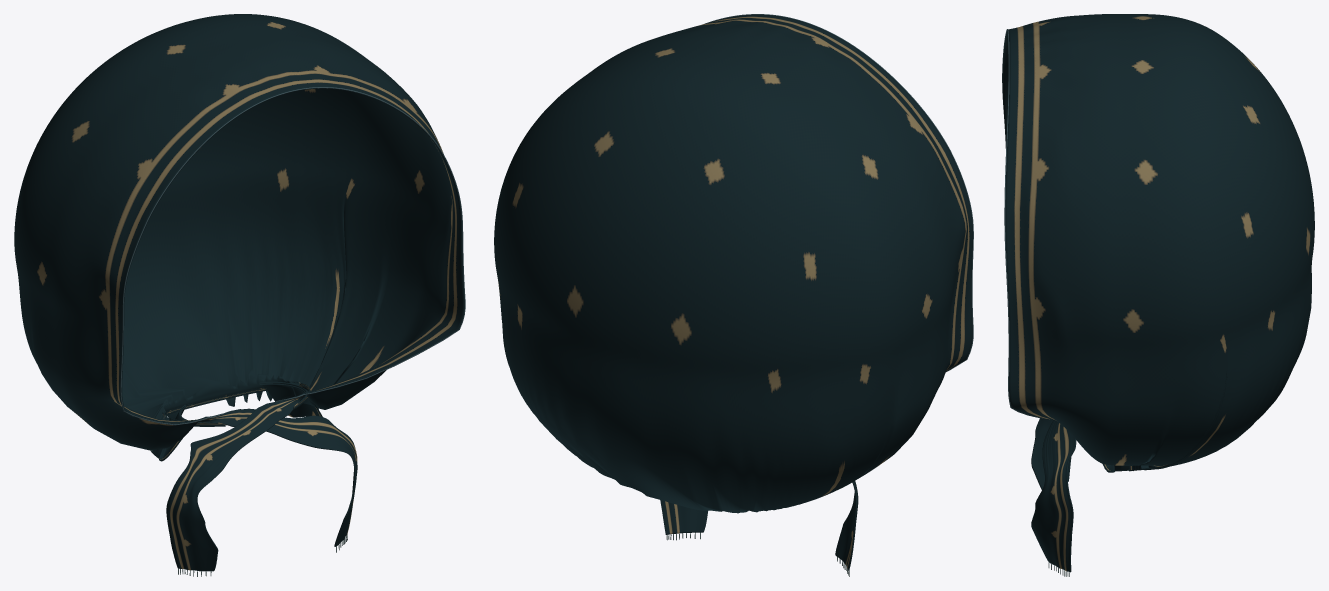
File: Feminine-bob-bandeau-pashmina250-headgear.glb
3 views of the same model, side by side, from view 1: azimuth 30°, elevation 25°; view 2: azimuth 150°, elevation 25°; view 3: azimuth 270°, elevation 25° (orthographic). The views are drawn at different scales.
Visible parts, largest first — view 1: 226 headgear / Headwear / continuous woven pashmina239, 226 headgear / Headwear / face edge239; view 2: 226 headgear / Headwear / continuous woven pashmina239, 226 headgear / Headwear / face edge239; view 3: 226 headgear / Headwear / continuous woven pashmina239, 226 headgear / Headwear / face edge239.
Part boxes in pixels (x1=…): 226 headgear / Headwear / continuous woven pashmina239: x1=14, y1=14, x2=464, y2=571; 226 headgear / Headwear / face edge239: x1=120, y1=87, x2=465, y2=425; 226 headgear / Headwear / continuous woven pashmina239: x1=494, y1=14, x2=972, y2=570; 226 headgear / Headwear / face edge239: x1=703, y1=14, x2=973, y2=371; 226 headgear / Headwear / continuous woven pashmina239: x1=1002, y1=14, x2=1314, y2=572; 226 headgear / Headwear / face edge239: x1=1002, y1=29, x2=1046, y2=418.
Size of the model in its own units: 1.1 by 1.39 by 0.7846.
3 materials, 1 textured.
